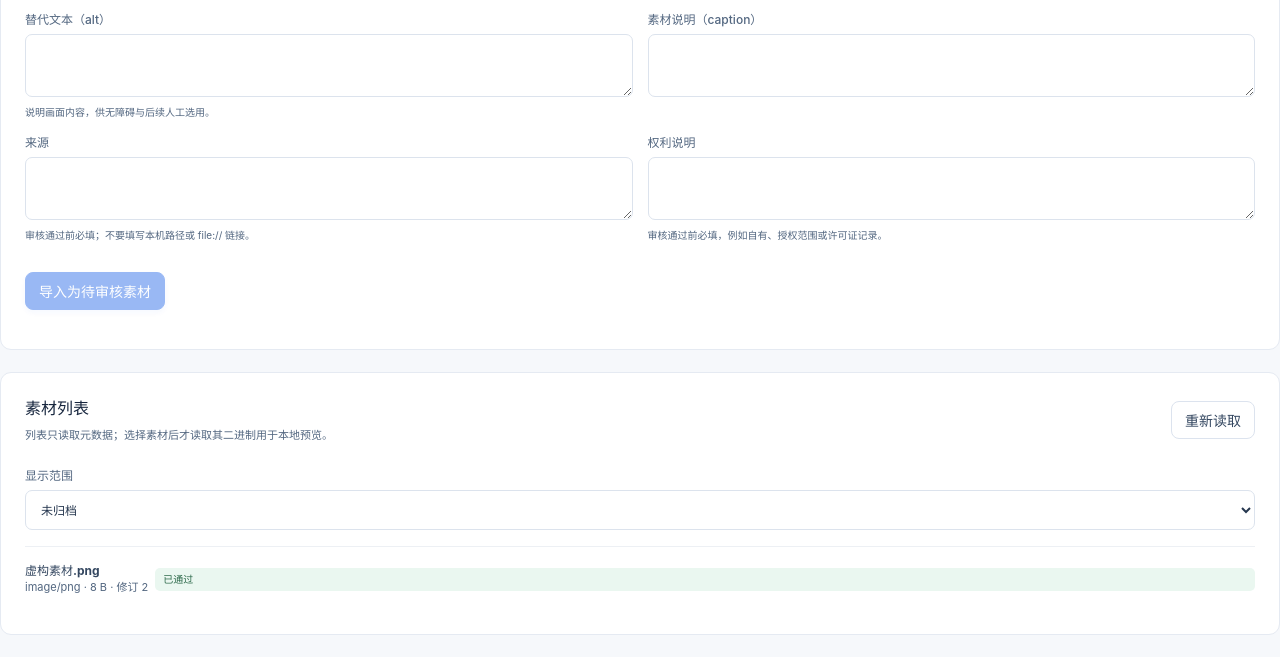
Scenario: requires_rights_before_approval_and_revising_approved_media_returns_to_pending
The image size is (1280, 657).
(page scrolled)
Click the button "虚构素材.png image/png · 8 B · 修订 2 已通过".
click(640, 579)  # box x1=25 y1=546 x2=1255 y2=611
(page scrolled)
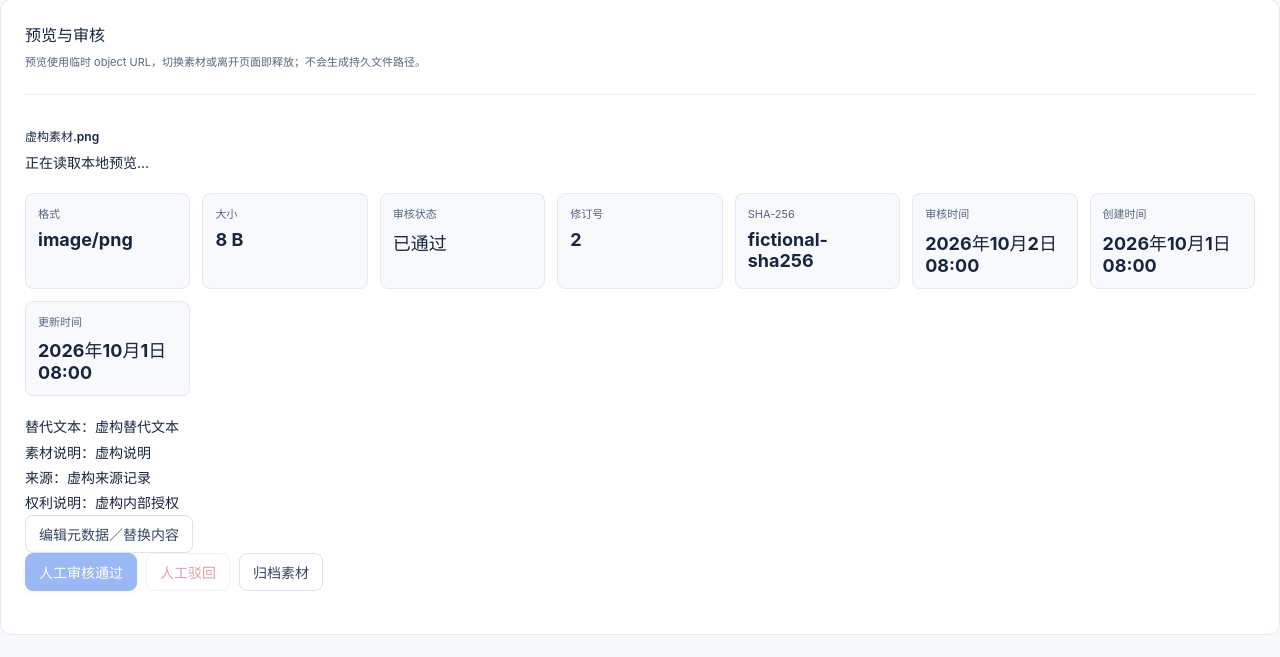
Result: the button "人工审核通过" is disabled at x1=25 y1=553 x2=137 y2=591
Click the button "编辑元数据／替换内容".
click(109, 534)  # box x1=25 y1=515 x2=193 y2=553
(page scrolled)
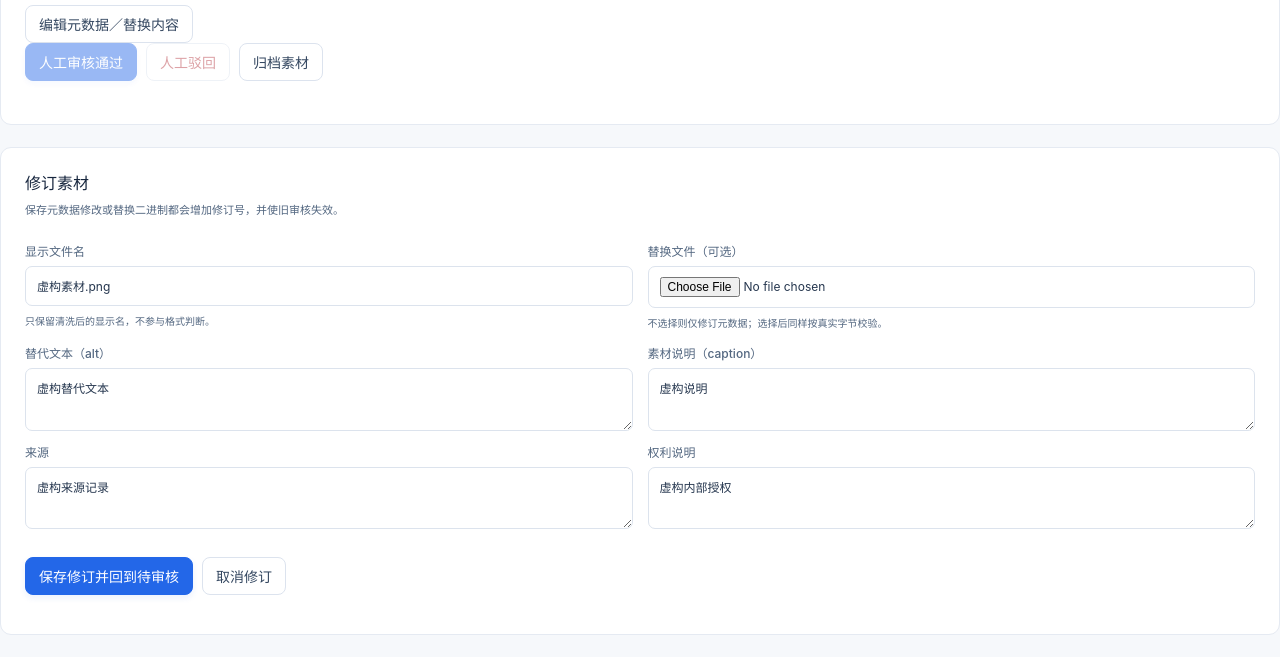
Replace the text in the text box labelled "替代文本（alt）" with "虚构修订替代文本" at (329, 399), box x1=25 y1=368 x2=632 y2=431
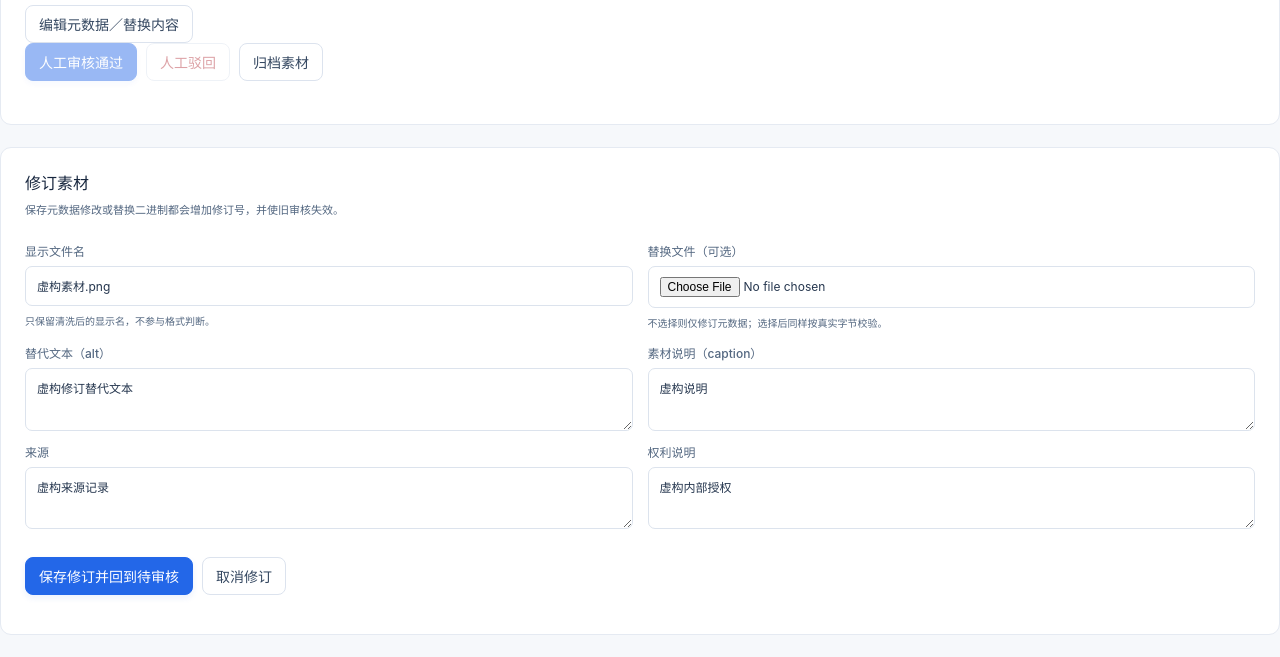
Click the button "保存修订并回到待审核".
click(109, 576)  # box x1=25 y1=557 x2=193 y2=595
(page scrolled)
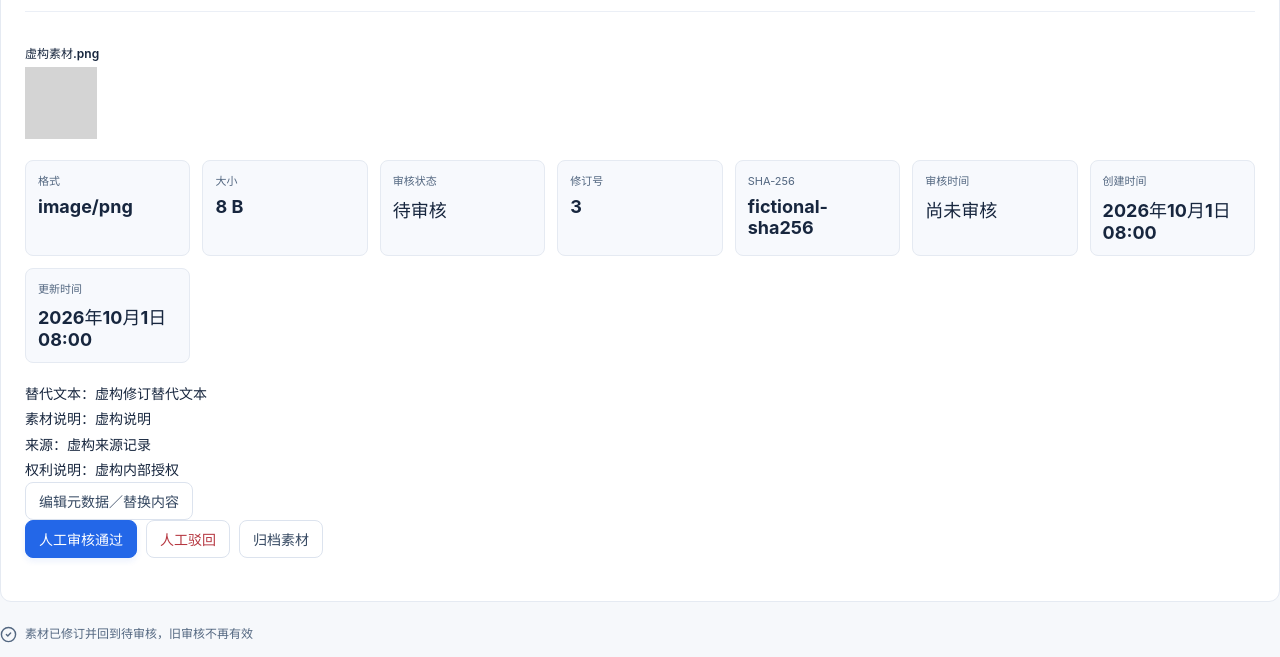
Result: the text "素材已修订并回到待审核，旧审核不再有效" is shown at x1=0 y1=626 x2=253 y2=643
Result: the button "人工审核通过" is enabled at x1=25 y1=520 x2=137 y2=558
